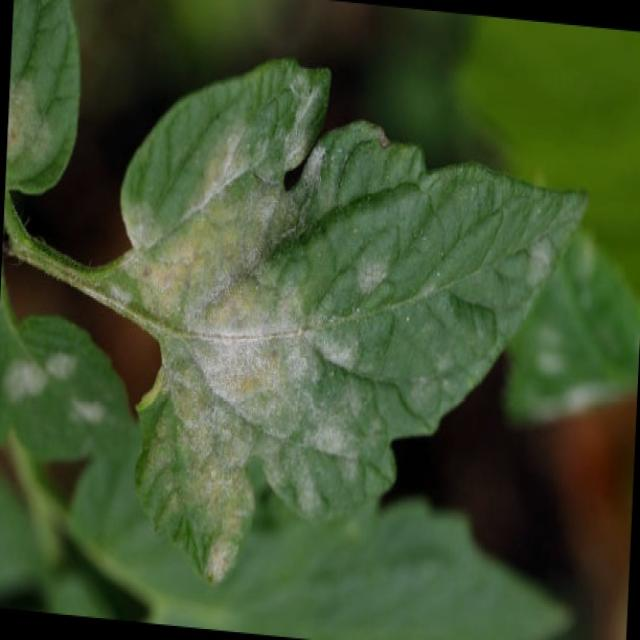Powdery Mildew: (118, 173, 340, 498), (355, 254, 389, 295)
